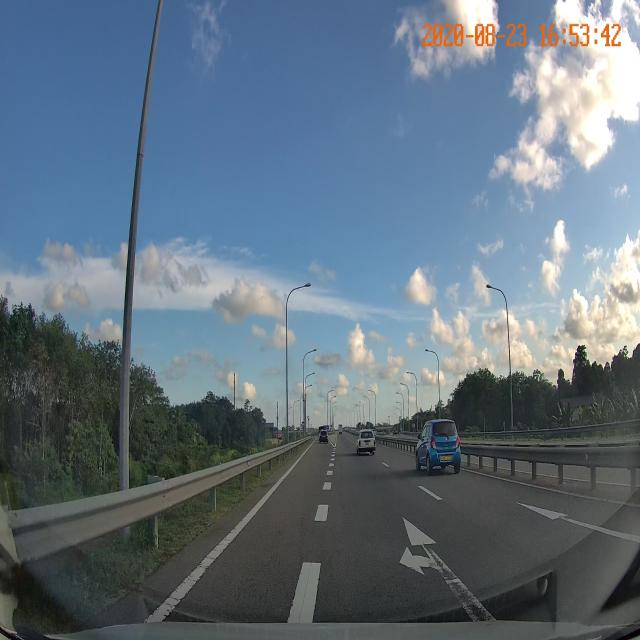forward_lft: (292, 507, 588, 589), (298, 513, 553, 567), (296, 527, 560, 576), (298, 522, 538, 565)
